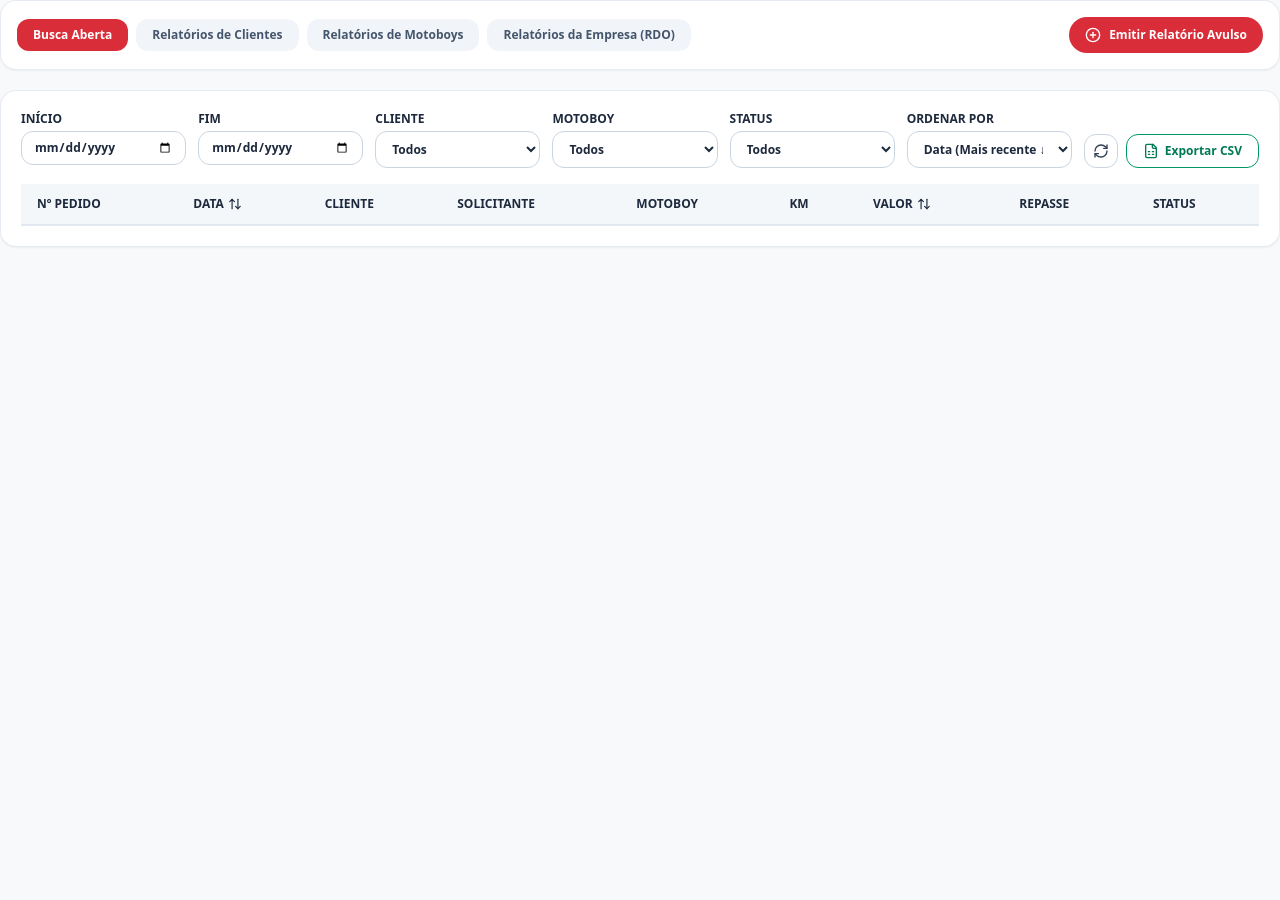
it: ReportsScreen › should display reports with orderIds, fetch orders via /orders/by-ids when viewing report, and only generate PDF when clicking Gerar PDF button
The width and height of the screenshot is (1280, 900).
Later steps or results of the test are not shown.
Note: Switch to Clientes tab
Click the button "Relatórios de Clientes" at (217, 35), box [136, 19, 298, 51]
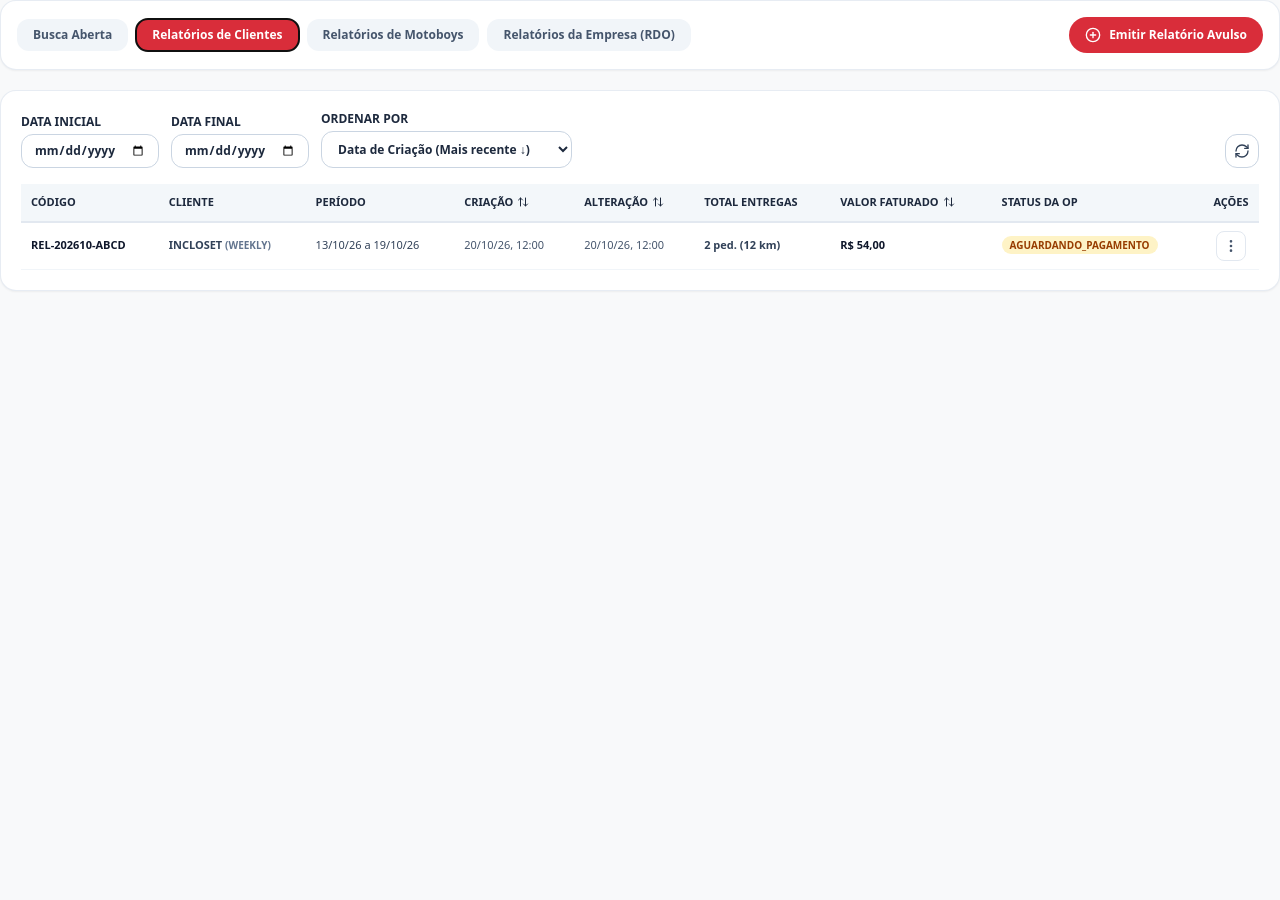
Expected: the button "Ver Relatório" is not shown
Now the text "REL-202610-ABCD" is shown, box [21, 222, 159, 269]
Note: Open the 3-dots menu and click "Ver Relatório" to open on-screen preview via /orders/by-ids
Click the button with test id "report-actions-trigger-0" at (1231, 246), box [1216, 230, 1246, 260]
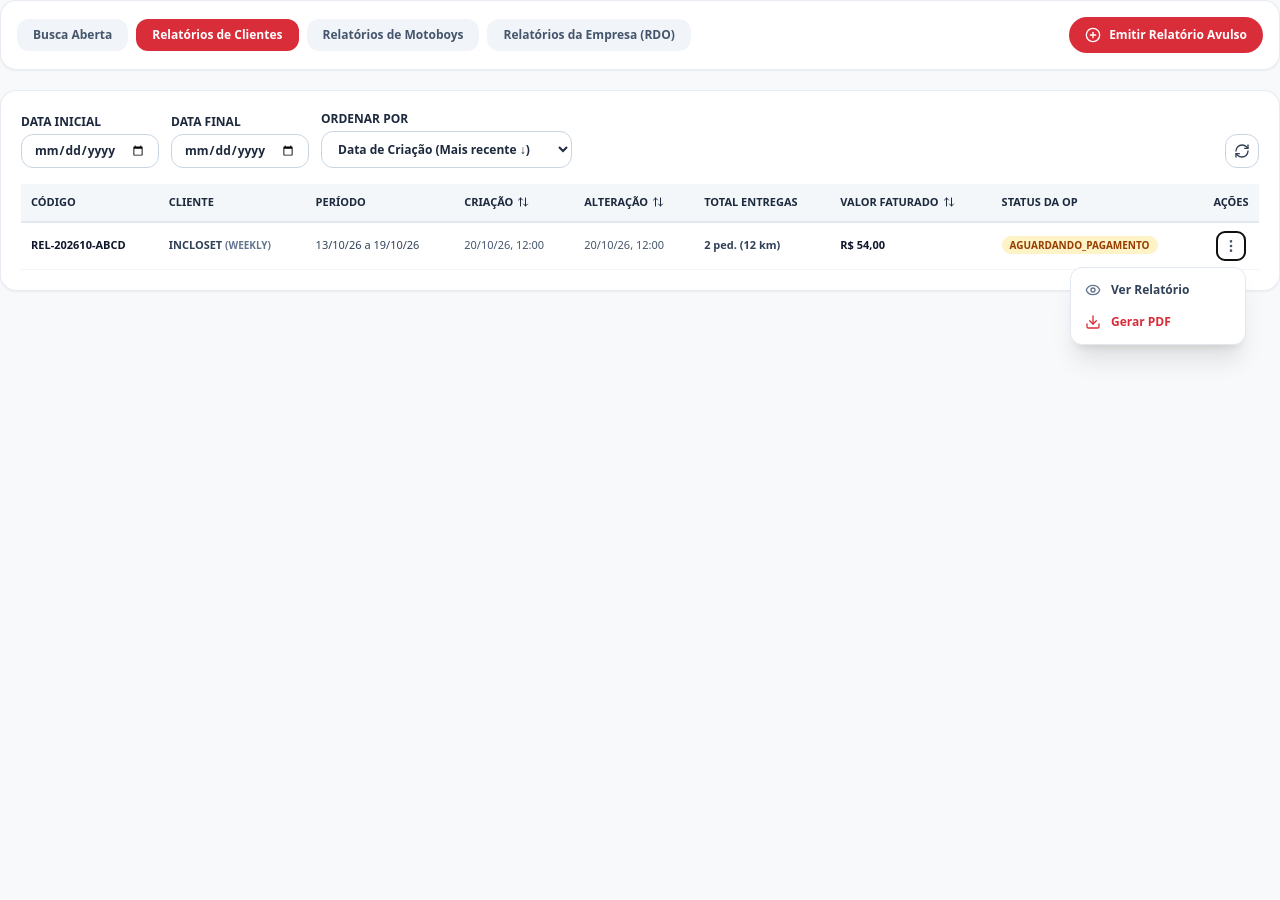
Click the button "Ver Relatório" at (1158, 290), box [1071, 274, 1245, 306]
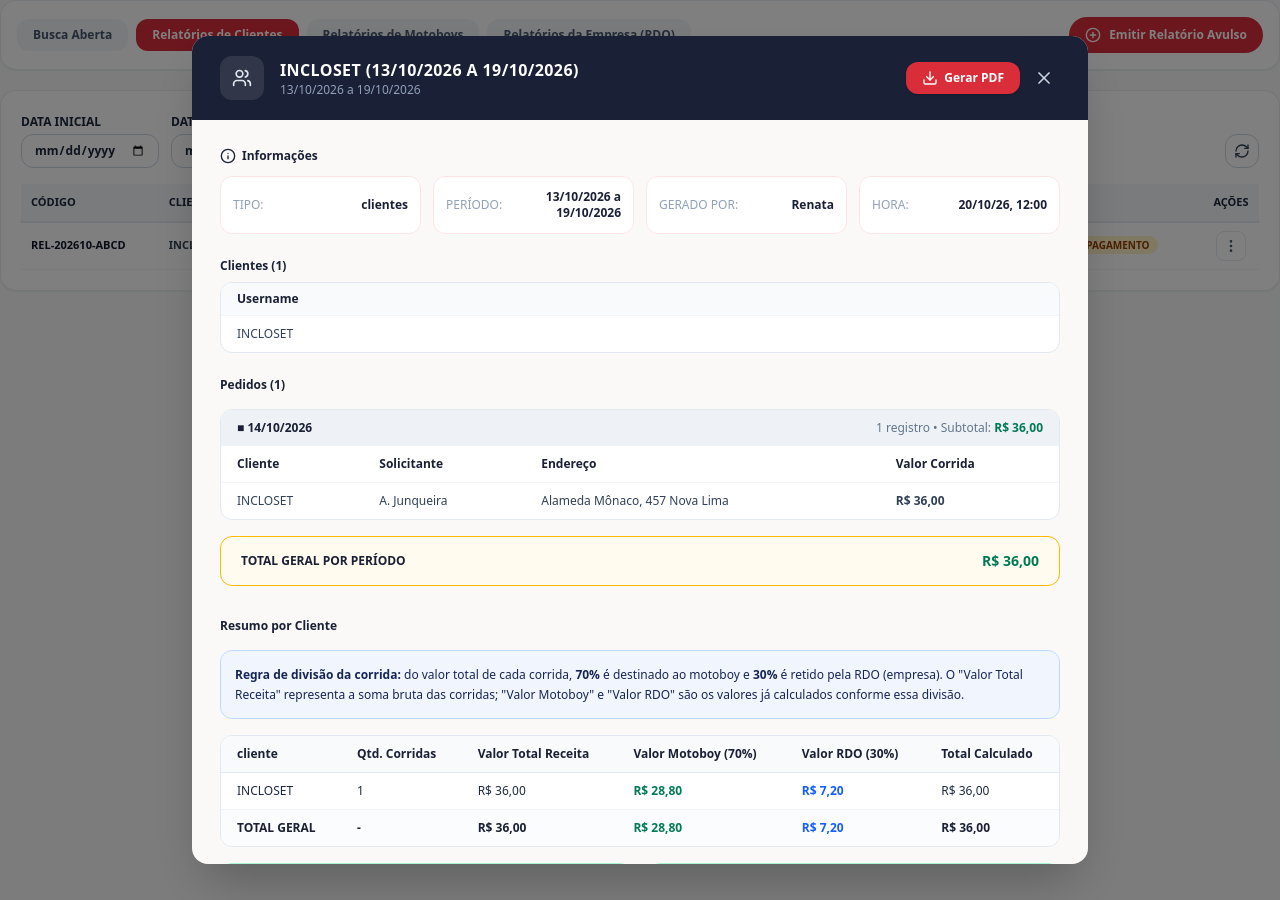
Now the text "A. Junqueira" is shown, box [363, 482, 525, 519]
Now the column heading "Valor Motoboy (70%)" is shown, box [617, 736, 786, 772]
Now the column heading "Valor RDO (30%)" is shown, box [786, 736, 925, 772]
